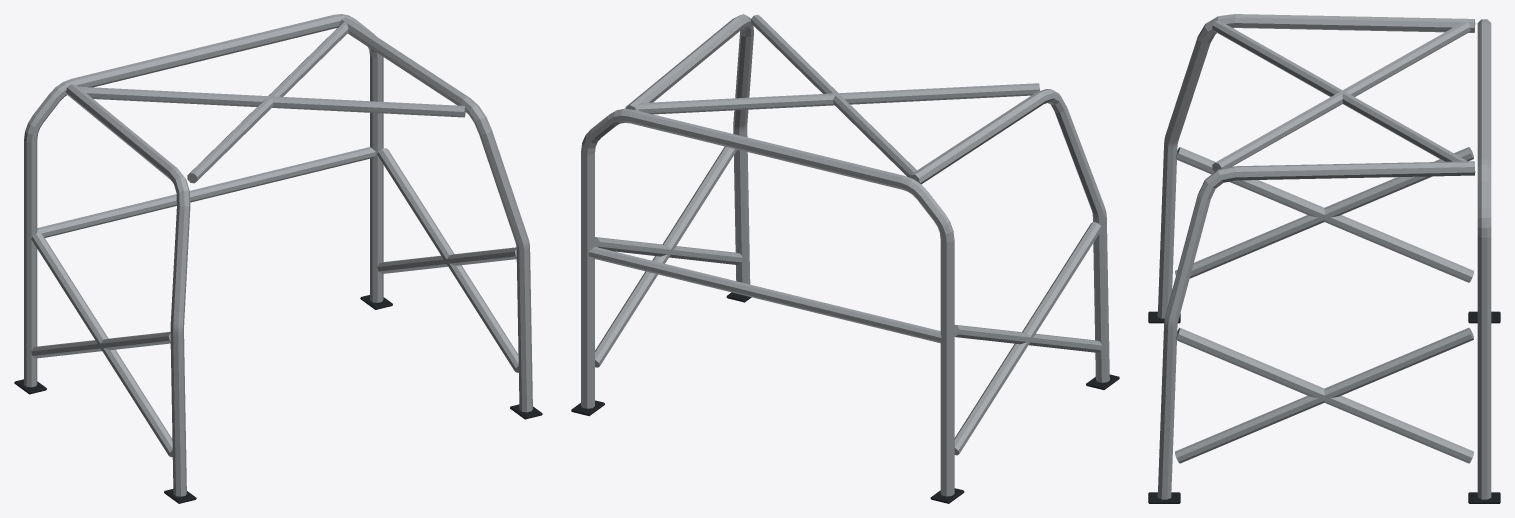
The model's file is strada_evo.glb.
The picture shows the model from 3 angles, left to right: view 1: azimuth 30°, elevation 25°; view 2: azimuth 150°, elevation 25°; view 3: azimuth 270°, elevation 25°; orthographic projection. The views are drawn at different scales.
Parts seen in each view (by area): view 1: model; view 2: model; view 3: model.
Part boxes in pixels (x1=…): model: x1=14, y1=14, x2=542, y2=503; model: x1=571, y1=14, x2=1119, y2=503; model: x1=1148, y1=14, x2=1500, y2=503.
Size of the model in its own units: 1.39 by 1.09 by 1.09.
Materials: 2 (1 with a texture image).
